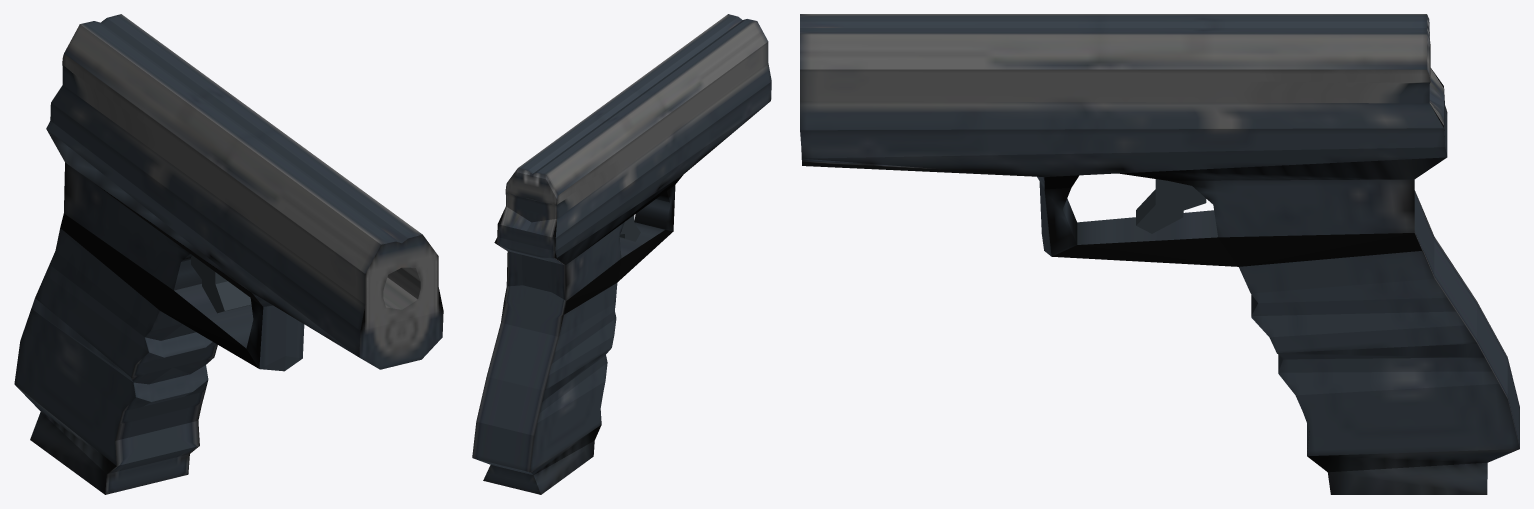
Rendered from glock2.fbx.
3 renders of one model, left to right at view 1: azimuth 30°, elevation 25°; view 2: azimuth 150°, elevation 25°; view 3: azimuth 270°, elevation 25°, orthographic. The views are drawn at different scales.
Parts seen in each view (by area): view 1: Glock; view 2: Glock; view 3: Glock.
Part boxes in pixels (x1,y1,x2,y2): Glock: (14,14,443,494); Glock: (472,14,771,494); Glock: (800,14,1519,494).
Bounding box in the file's own units: 41.02 × 189 × 275.
Materials: 2 (1 with a texture image).
